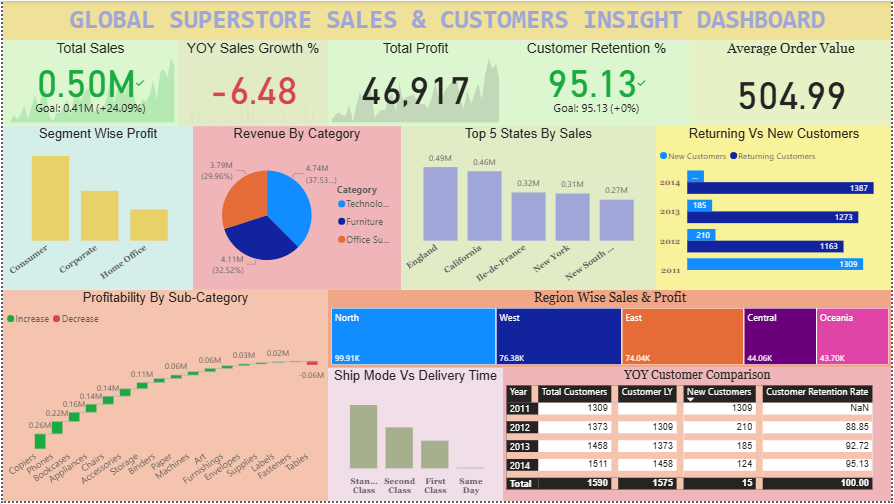

This screenshot's page, from the dashboard's own definition file:
{"tool":"powerbi","page":{"name":"Page 1","canvas":[1280,720],"ordinal":0},"visuals":[{"type":"clusteredColumnChart","title":"Segment Wise Profit","fields":{"Category":["Orders.Segment"],"Y":["Orders.Total Profit"]},"box":[0,180,273.6,236.2],"z":0},{"type":"pieChart","title":"Revenue By Category","fields":{"Y":["Orders.Total Sales"],"Category":["Orders.Category"]},"box":[273.6,180,299.5,236.2],"z":1000},{"type":"clusteredColumnChart","title":"Top 5 States By Sales","fields":{"Category":["Orders.State"],"Y":["Orders.Total Sales"]},"box":[573.1,180,367.2,236.2],"z":2000},{"type":"kpi","title":"Total Sales","fields":{"Indicator":["Orders.Total Sales"],"Goal":["Orders.Sales LY"],"TrendLine":["DateTable.YearMonth"]},"box":[0,56.2,252,123.8],"z":3000},{"type":"kpi","title":"YOY Sales Growth %","fields":{"Indicator":["Orders.YoY Sales Growth %"],"TrendLine":["DateTable.Date"]},"box":[252,56.2,216,123.8],"z":4000},{"type":"kpi","title":"Total Profit","fields":{"TrendLine":["DateTable.YearMonth"],"Indicator":["Orders.Total Profit"]},"box":[468,56.2,252,123.8],"z":5000},{"type":"kpi","title":"Customer Retention %","fields":{"Indicator":["Orders.Customer Retention Rate"],"TrendLine":["DateTable.Year"],"Goal":["Orders.Customer Retention Rate"]},"box":[720,56.2,269.3,123.8],"z":6000},{"type":"treemap","title":"Region Wise Sales & Profit","fields":{"Group":["Orders.Region"],"Values":["Orders.Total Profit"]},"box":[468,416.2,812.2,112.3],"z":7000},{"type":"columnChart","title":"Ship Mode Vs Delivery Time","fields":{"Category":["Orders.Ship Mode"],"Y":["Orders.Average Delivery Days"]},"box":[468,528.5,252,191.5],"z":8001},{"type":"card","title":"Average Order Value","fields":{"Values":["Orders.Average Order Value"]},"box":[989.3,56.2,290.9,123.8],"z":8002},{"type":"pivotTable","title":"YOY Customer Comparison","fields":{"Rows":["DateTable.Year"],"Values":["Orders.Total Customers","Orders.Customer LY","Orders.New Customers","Orders.Customer Retention Rate"]},"box":[720,528.5,560.2,191.5],"z":8003},{"type":"actionButton","box":[0,0,100,40],"z":8004},{"type":"textbox","box":[0,0,1280.2,56.2],"z":8005},{"type":"clusteredBarChart","title":"Returning Vs New Customers","fields":{"Category":["DateTable.Year"],"Y":["Orders.New Customers","Orders.Returning Customers"]},"box":[940.3,180,339.8,236.2],"z":8006},{"type":"waterfallChart","title":"Profitability By Sub-Category","fields":{"Category":["Orders.Sub-Category"],"Y":["Orders.Total Profit"]},"box":[0,416.2,468,303.8],"z":8007}]}

Visuals, with their boxes in screenshot pixels (x1, y1, x2, y2), scaled from the page's 1280x720 canvas onto the 894x504 screenshot:
"Segment Wise Profit" clusteredColumnChart: [left=0, top=126, right=191, bottom=291]
"Revenue By Category" pieChart: [left=191, top=126, right=400, bottom=291]
"Top 5 States By Sales" clusteredColumnChart: [left=400, top=126, right=657, bottom=291]
"Total Sales" kpi: [left=0, top=39, right=176, bottom=126]
"YOY Sales Growth %" kpi: [left=176, top=39, right=327, bottom=126]
"Total Profit" kpi: [left=327, top=39, right=503, bottom=126]
"Customer Retention %" kpi: [left=503, top=39, right=691, bottom=126]
"Region Wise Sales & Profit" treemap: [left=327, top=291, right=893, bottom=370]
"Ship Mode Vs Delivery Time" columnChart: [left=327, top=370, right=503, bottom=503]
"Average Order Value" card: [left=691, top=39, right=893, bottom=126]
"YOY Customer Comparison" pivotTable: [left=503, top=370, right=893, bottom=503]
actionButton: [left=0, top=0, right=70, bottom=28]
textbox: [left=0, top=0, right=893, bottom=39]
"Returning Vs New Customers" clusteredBarChart: [left=657, top=126, right=893, bottom=291]
"Profitability By Sub-Category" waterfallChart: [left=0, top=291, right=327, bottom=503]
